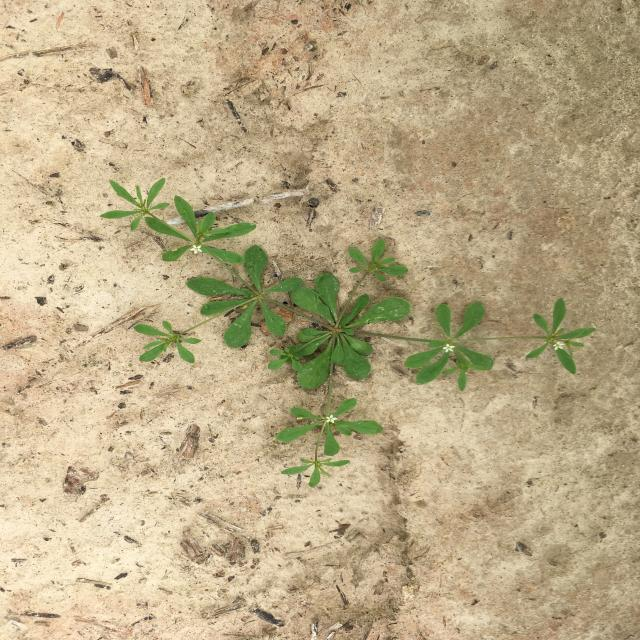Carpetweed: (99, 177, 597, 489)
